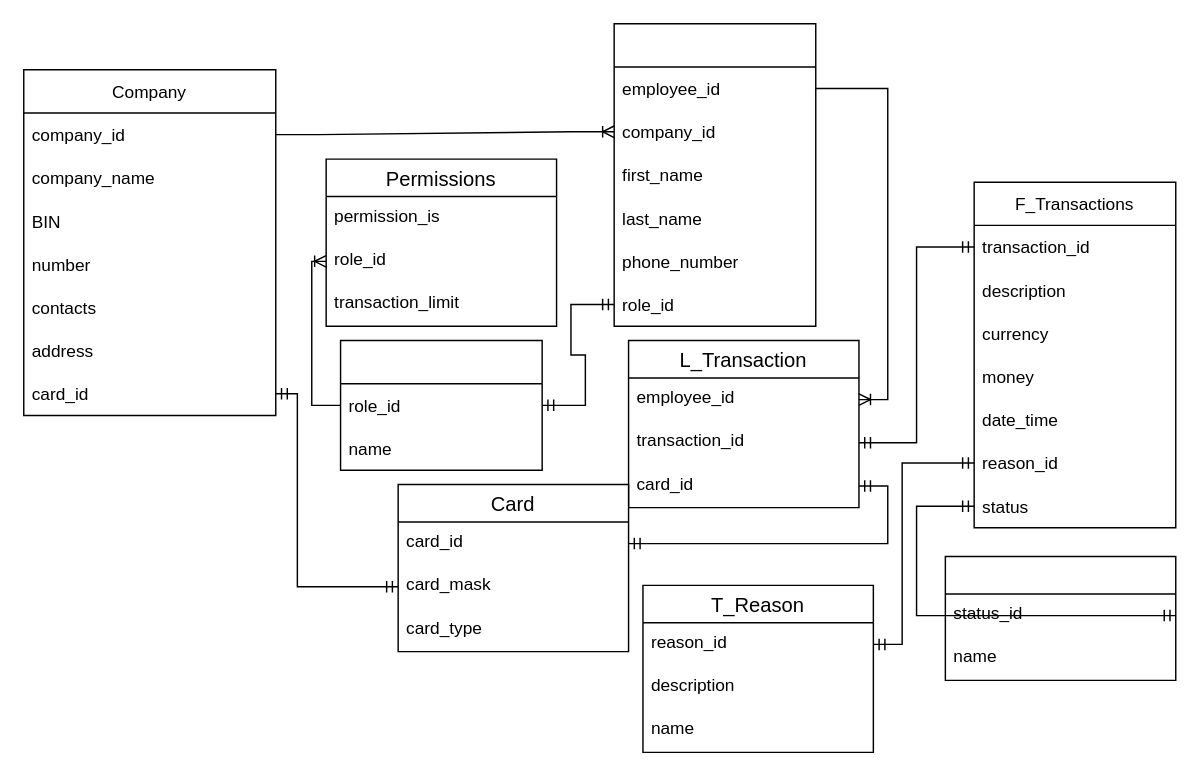
This 1200x776 diagram has some shape labels left out. Here are the shapes that lost their labels. From the top down, the box of each, then its label:
(613, 22, 816, 326): Employees
(339, 339, 542, 470): Employee_Role
(944, 555, 1176, 680): T_Status
